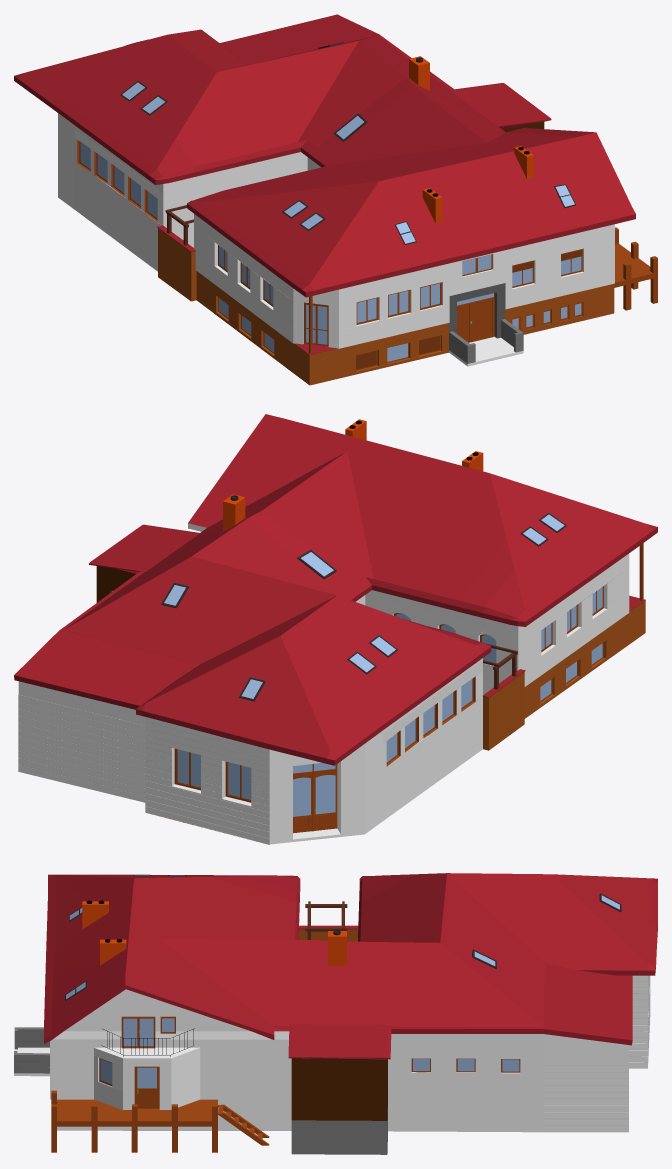
The model's file is Nagano.glb.
The picture shows the model from 3 angles, top to bottom: view 1: azimuth 30°, elevation 25°; view 2: azimuth 150°, elevation 25°; view 3: azimuth 270°, elevation 25°; orthographic projection. The views are drawn at different scales.
Visible parts, largest first — view 1: baárk, zídka; view 2: baárk, zídka; view 3: baárk, zídka, Cube.002, zábradlí.
Boxes of the visible parts, bbox=[...] form: baárk: bbox=[14, 14, 657, 385]; zídka: bbox=[157, 225, 196, 301]; baárk: bbox=[14, 414, 657, 844]; zídka: bbox=[483, 669, 525, 750]; baárk: bbox=[14, 873, 657, 1154]; zídka: bbox=[298, 925, 358, 941]; Cube.002: bbox=[305, 901, 347, 939]; zábradlí: bbox=[101, 1028, 194, 1056].
Size of the model in its own units: 16.55 by 7.28 by 24.68.
